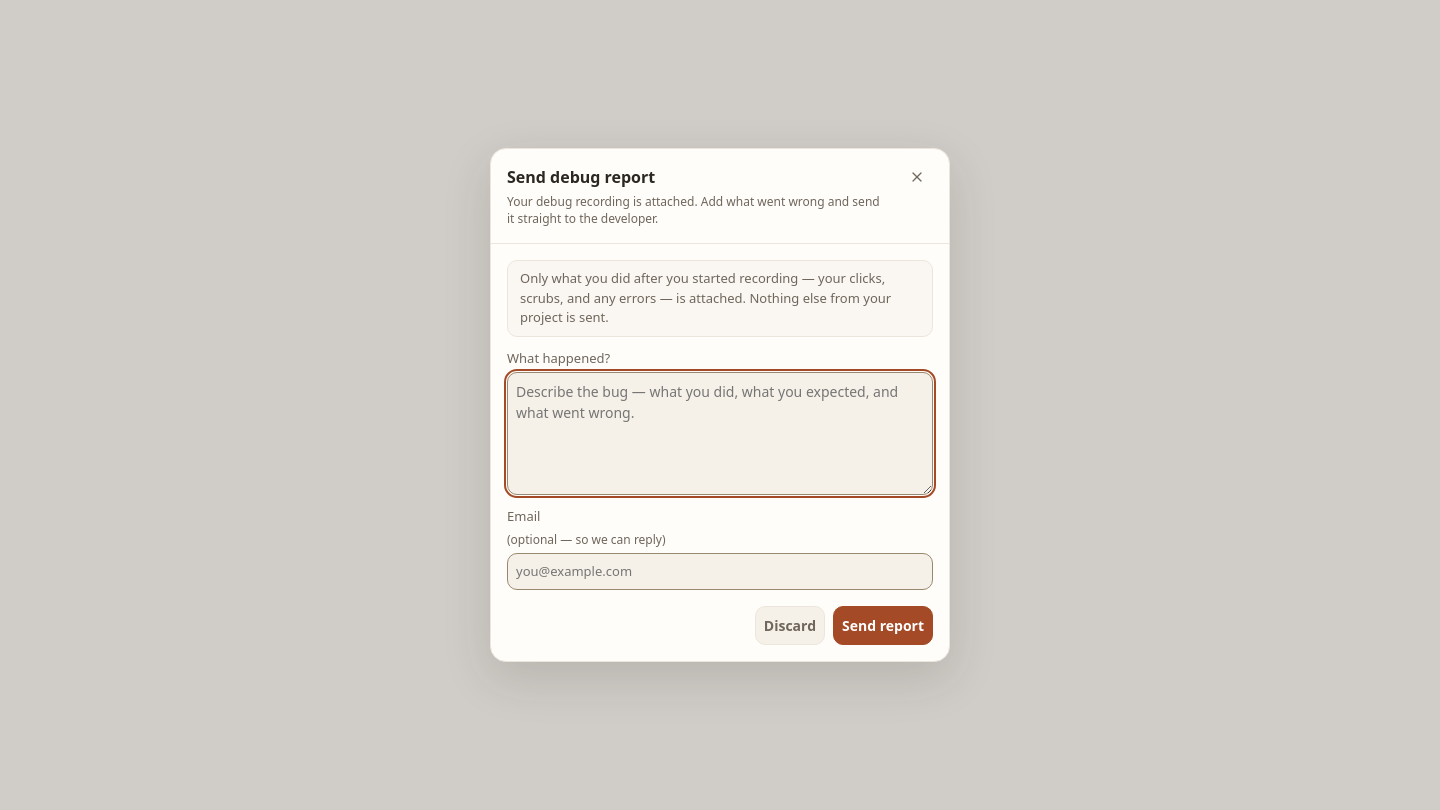
Test: DebugReportModal › sends the report with the debug session attached, after draining the recorder
The width and height of the screenshot is (1440, 810).
Replace the text in the text box with placeholder "Describe the bug" with "canvas froze on scrub": coordinates (720, 434) [507, 372, 933, 495]
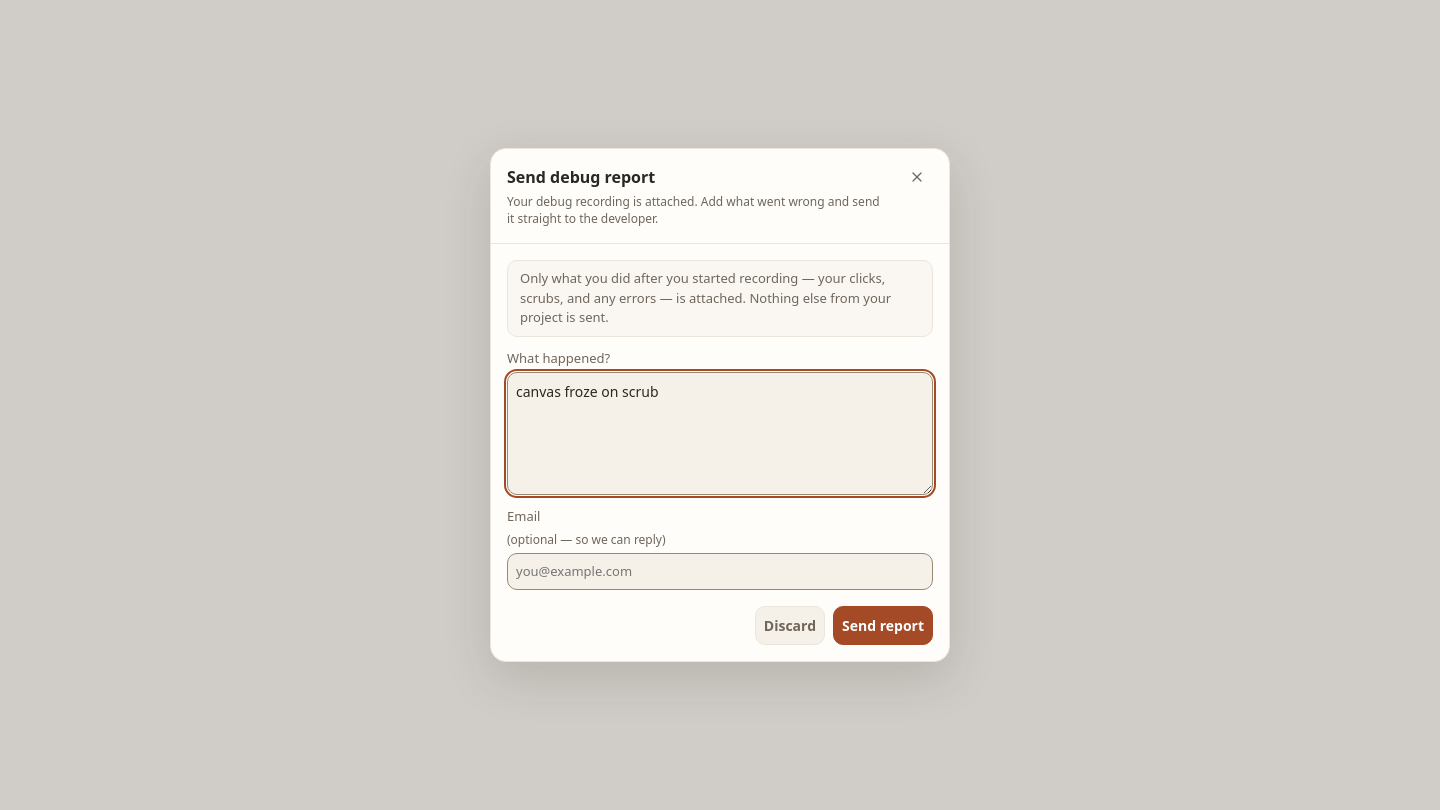
Click the button "Send report": coordinates (883, 626) [833, 606, 933, 645]
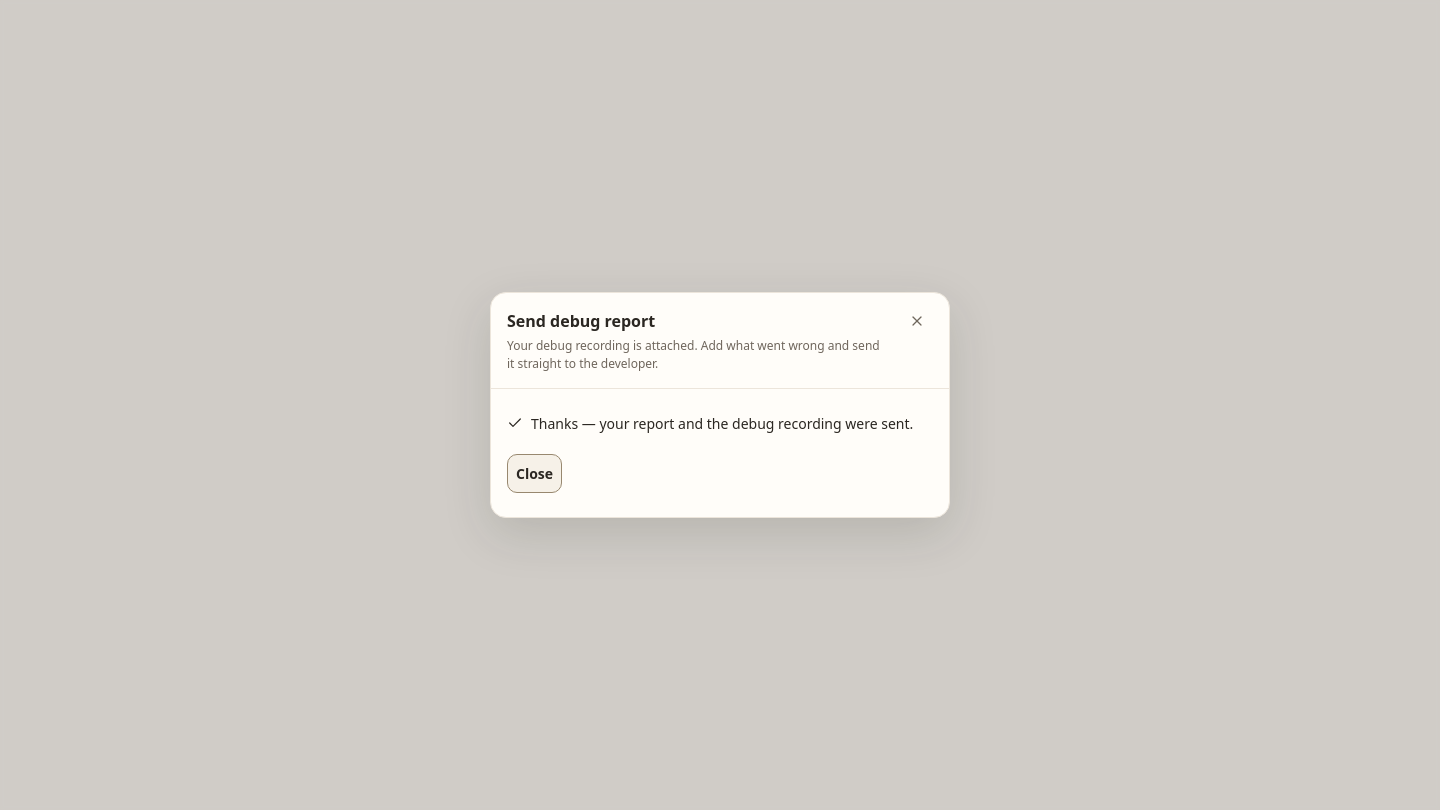
Result: the text "Thanks — your report and the debug recording were sent." is shown at [531, 413, 913, 434]
